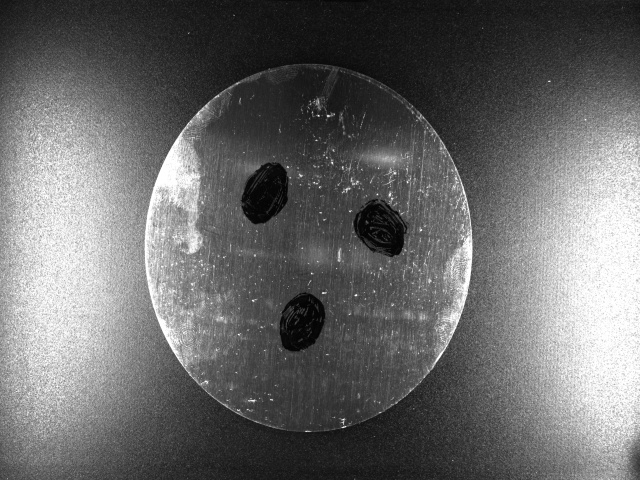zang_wu: (349, 197, 410, 259), (239, 162, 291, 225), (278, 290, 328, 354)
